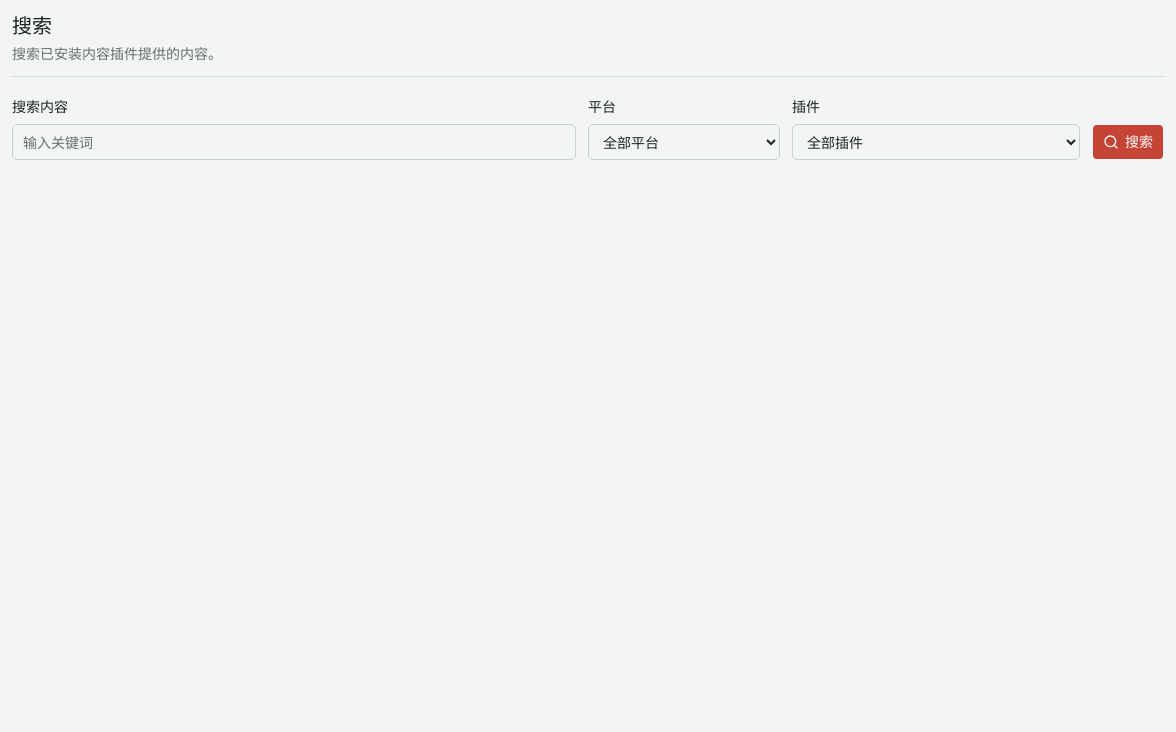
Scenario: search workspace › submits platform and plugin filters and keeps successful results beside failures
Step 1. Type "fixture" into the search field labelled "搜索内容" → (294, 142), box x1=12 y1=124 x2=576 y2=160
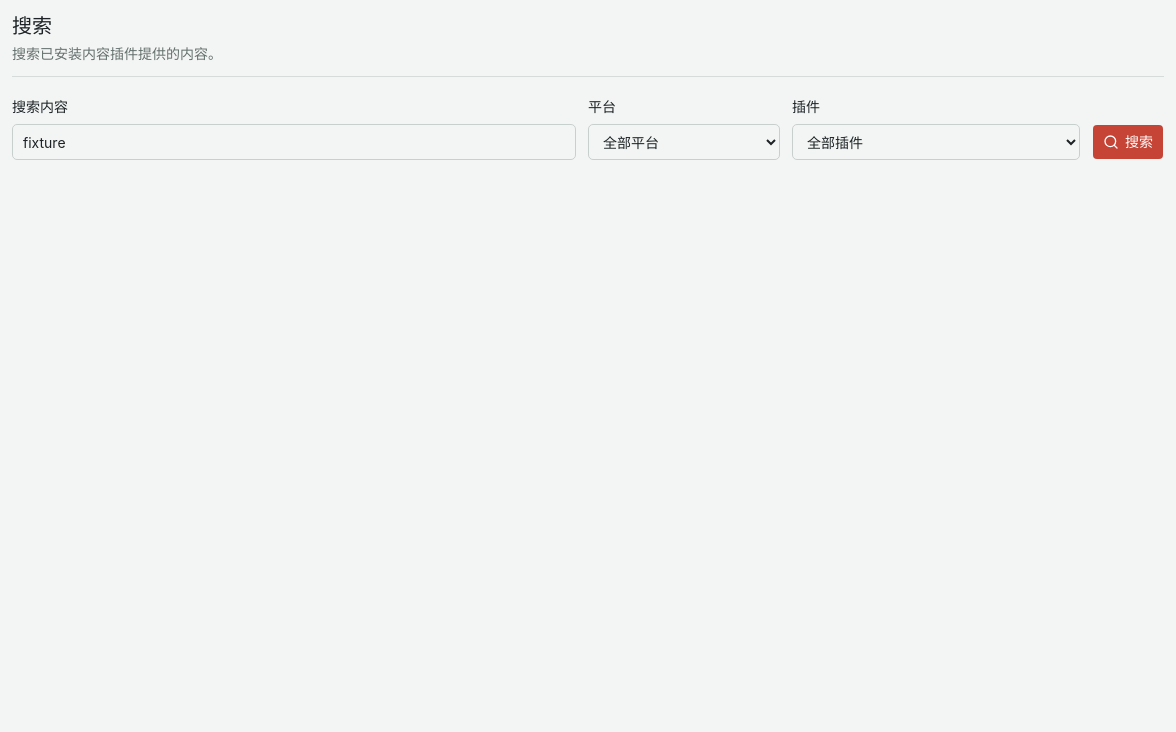
Step 2. Select "virtual" in the dropdown named "platform" → (684, 142), box x1=588 y1=124 x2=780 y2=160
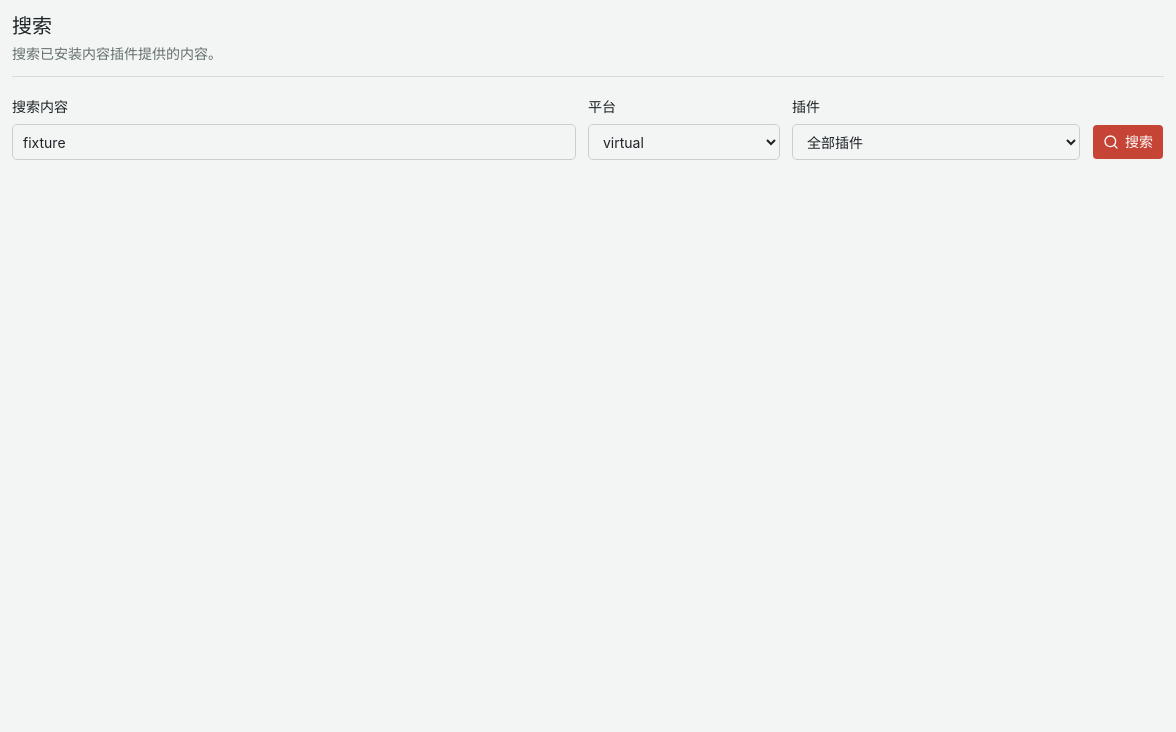
Step 3. Select "Virtual Content 1.0.0" in the dropdown named "plugin" → (936, 142), box x1=792 y1=124 x2=1080 y2=160
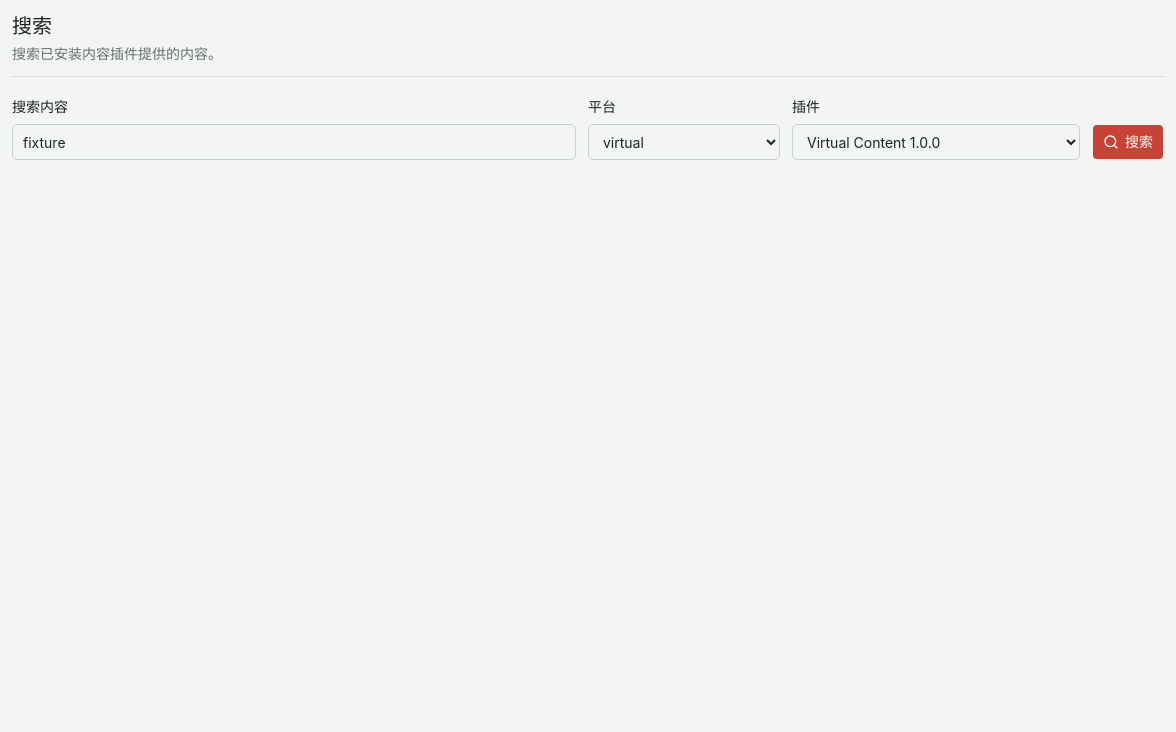
Step 4. Submit the form, box x1=12 y1=97 x2=1164 y2=160
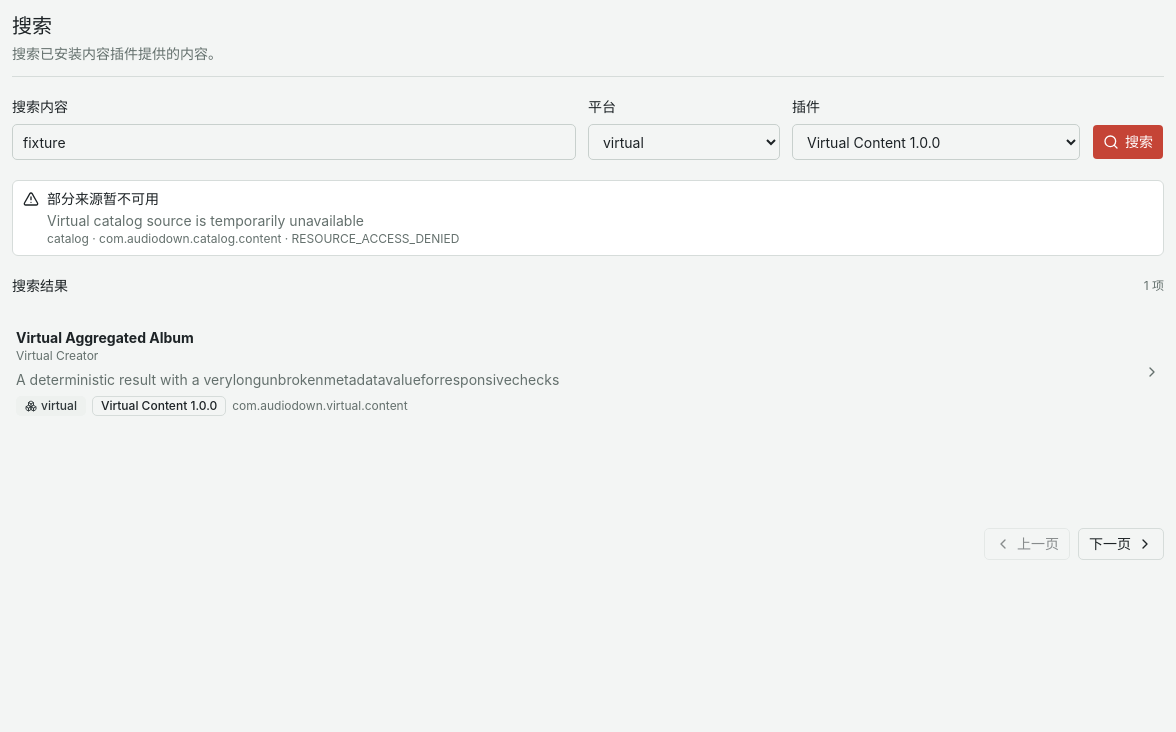
Now the text "Virtual Aggregated Album" is shown, box x1=16 y1=329 x2=194 y2=346
Now the text "Virtual Content" is shown, box x1=101 y1=398 x2=217 y2=413
Now the text "1.0.0" is shown, box x1=101 y1=398 x2=217 y2=413
